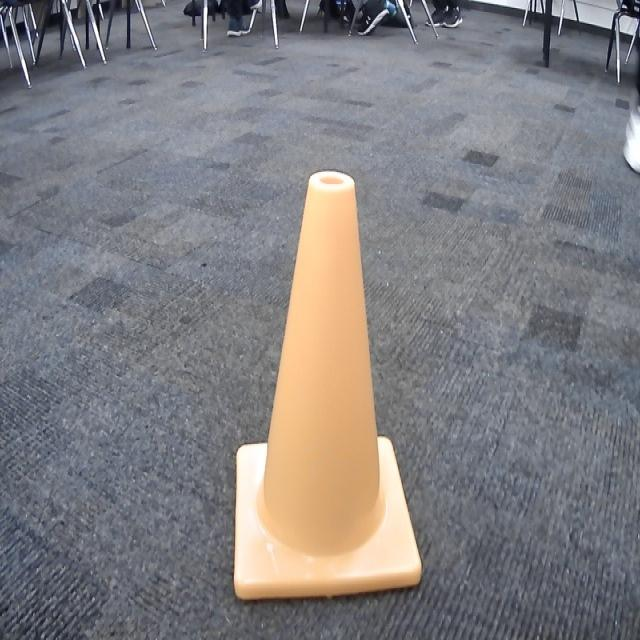cone: (215, 154, 430, 601)
